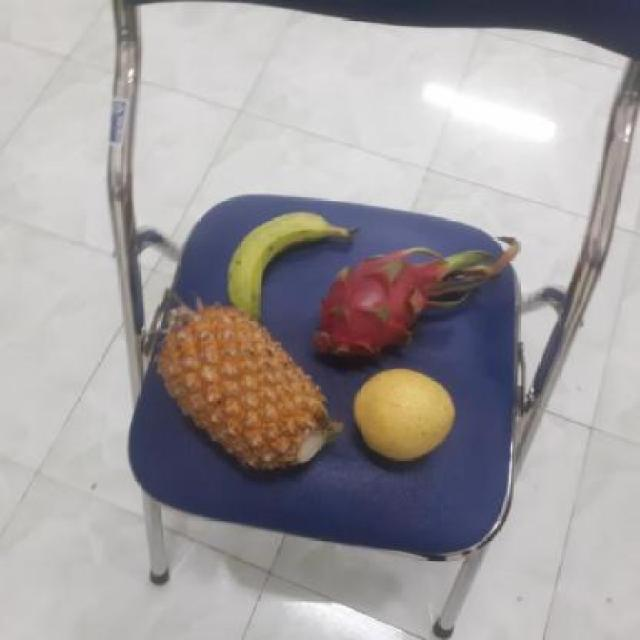banana: (214, 209, 345, 323)
dragon fruit: (310, 251, 458, 368)
pear: (348, 372, 459, 466)
pineapple: (154, 301, 331, 472)
